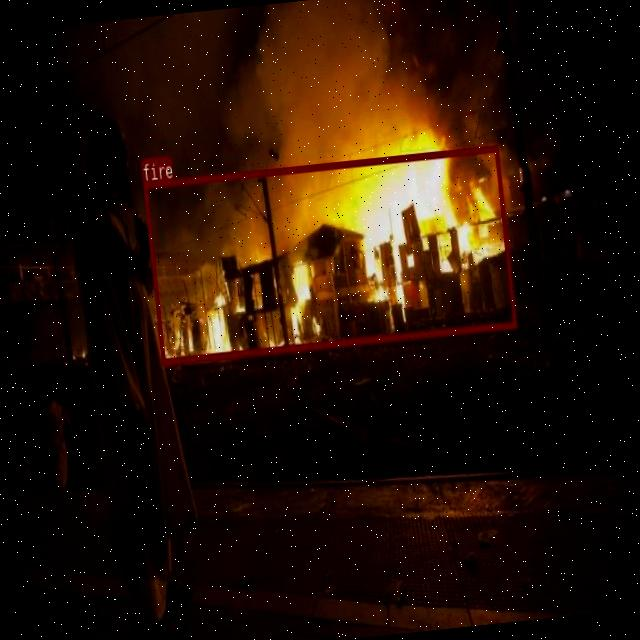fire: (142, 143, 515, 363)
